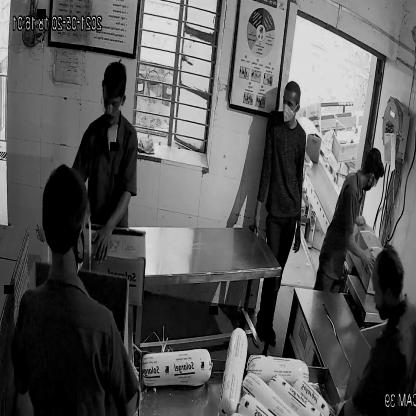goggles: (98, 91, 127, 117)
